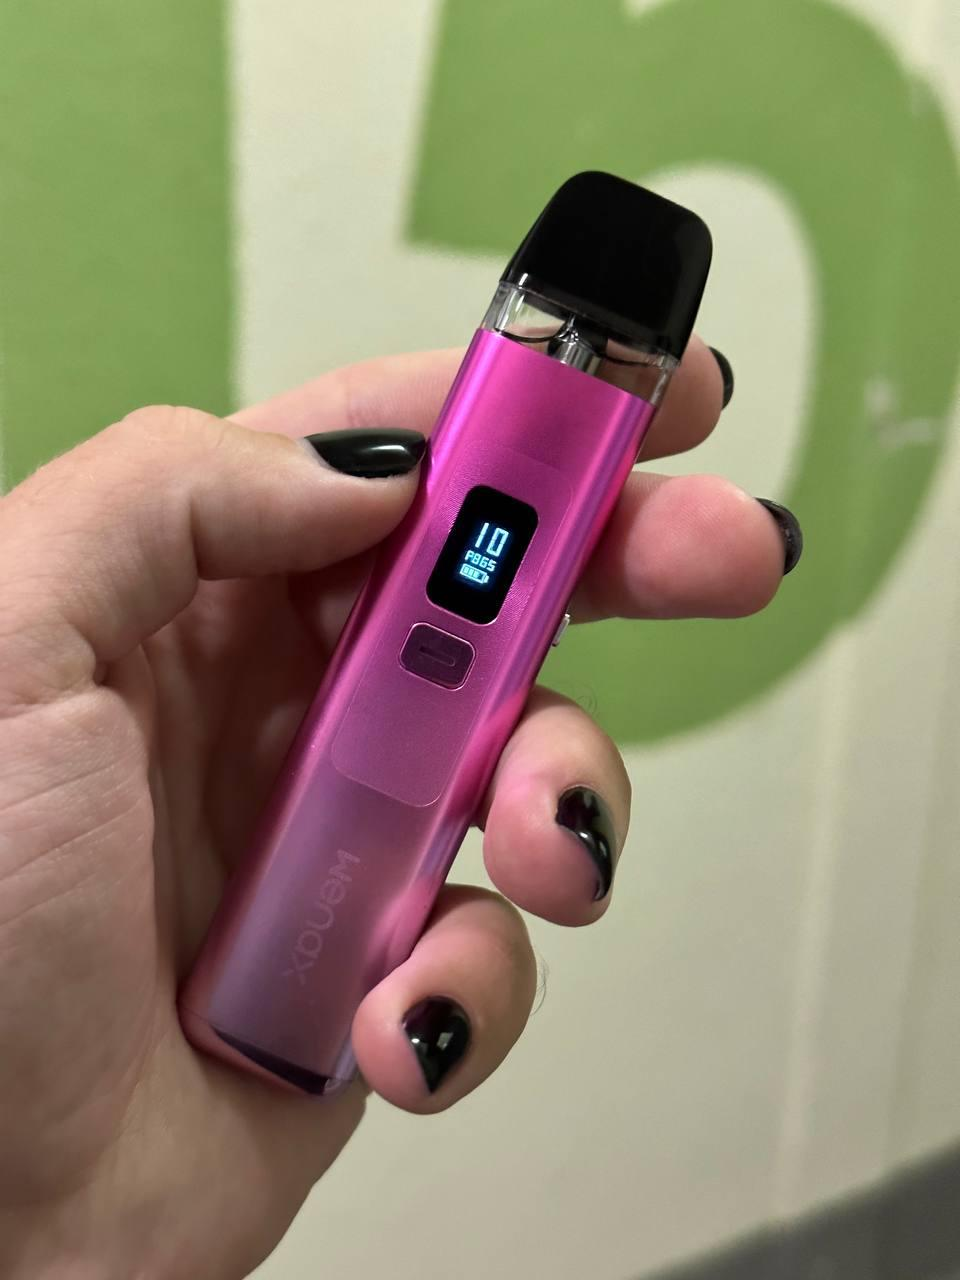Vape: (170, 167, 719, 1100)
